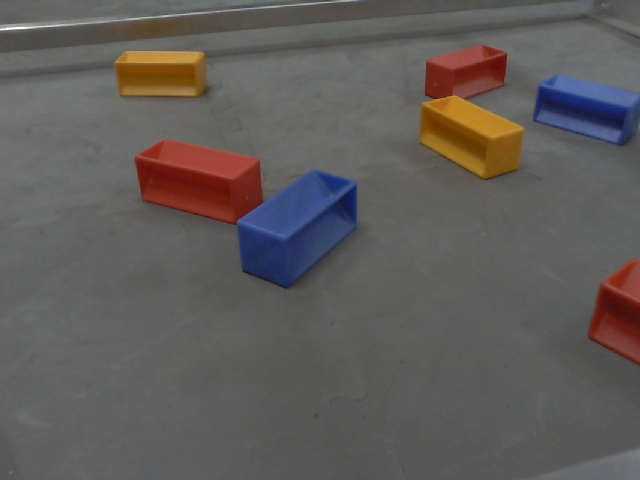BlueSample: (236, 168, 361, 291), (531, 72, 640, 153)
RedSample: (131, 136, 266, 229), (586, 257, 640, 367), (422, 42, 507, 106)
YellowSample: (415, 91, 526, 184), (111, 44, 211, 103)
